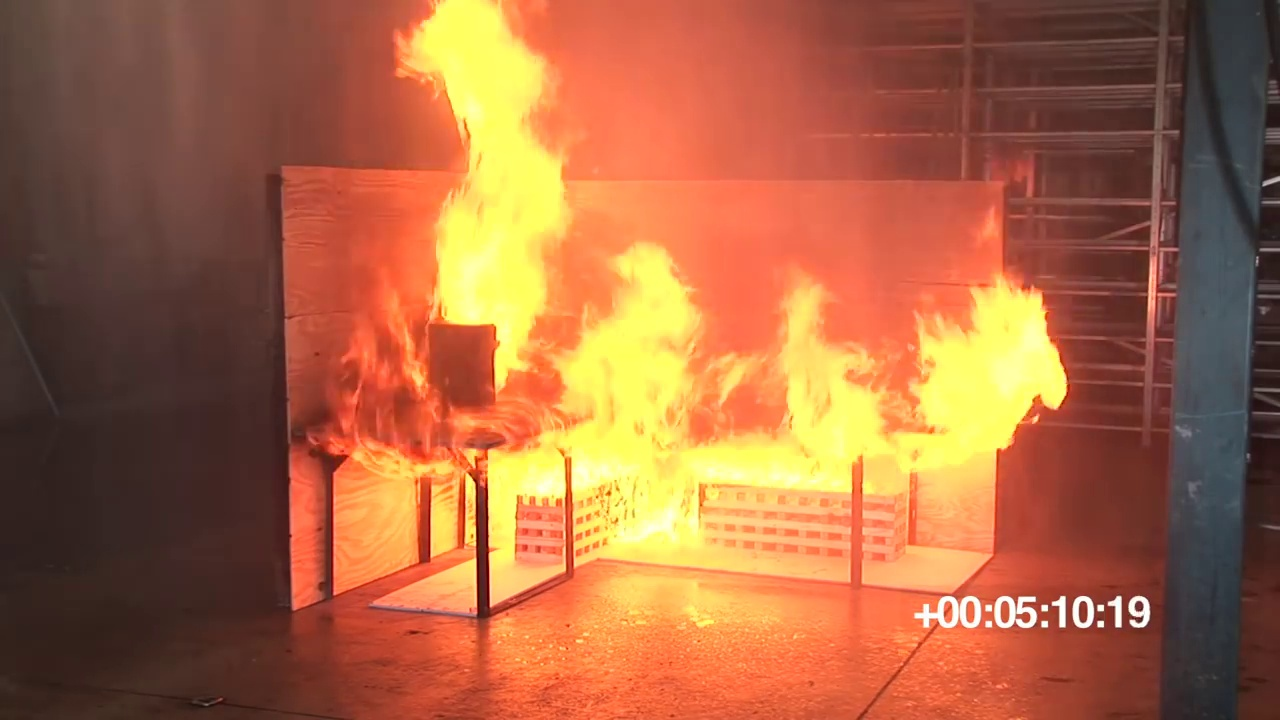fire: (390, 1, 568, 324), (558, 233, 734, 450), (921, 287, 1061, 435), (484, 443, 883, 492), (324, 316, 438, 474), (778, 284, 877, 461)
